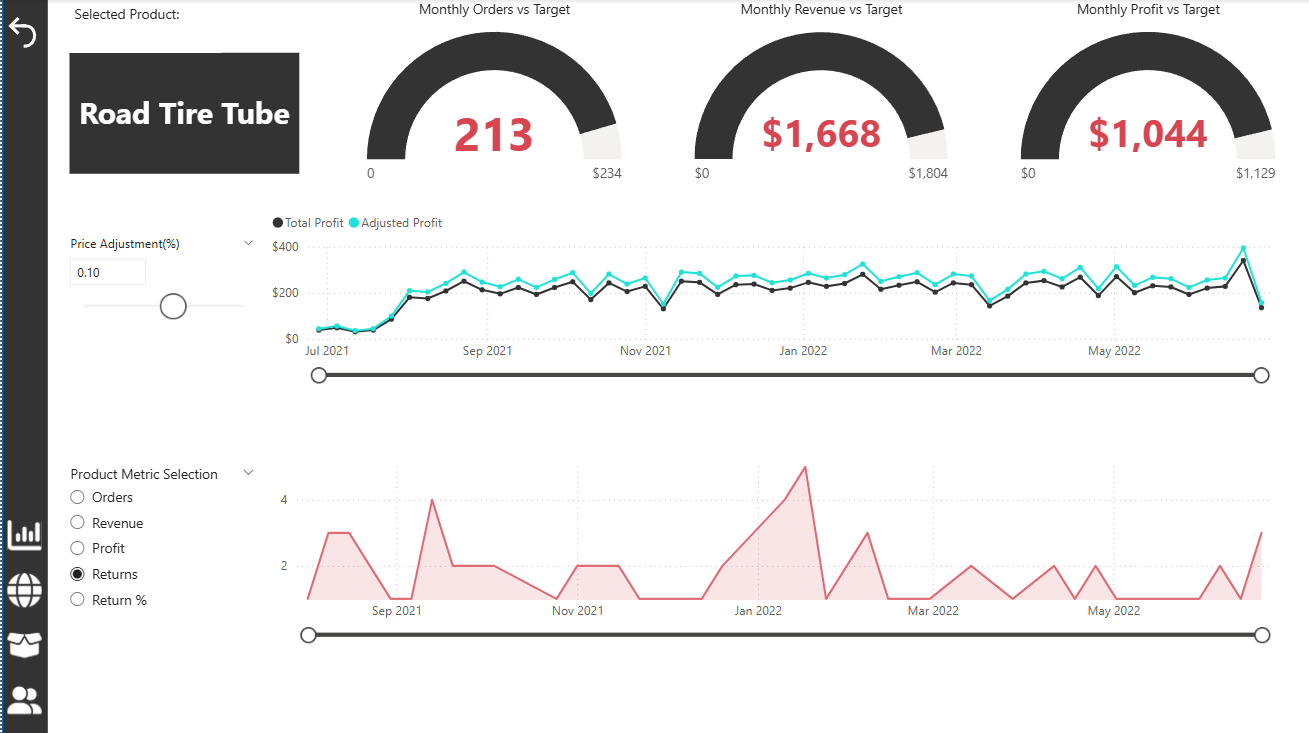

Layout of this report page (visuals, bound fields, positions):
{"tool":"powerbi","page":{"name":"Product Detail","canvas":[1280,720],"ordinal":2},"visuals":[{"type":"shape","box":[0,0,45,720],"z":0},{"type":"gauge","title":"Monthly Orders vs Target","fields":{"MaxValue":["Measure Table.Order Target"],"Y":["Measure Table.Total Orders"]},"box":[352.2,0,259.2,199.3],"z":1000},{"type":"actionButton","box":[1.2,665.2,45.2,41.6],"z":1000,"group":"g1"},{"type":"gauge","title":"Monthly Revenue vs Target","fields":{"MaxValue":["Measure Table.Revenue Target"],"Y":["Measure Table.Total Revenue"]},"box":[672.6,0,258,199.3],"z":2000},{"type":"actionButton","box":[1.2,503.8,45.2,41.6],"z":2000,"group":"g1"},{"type":"gauge","title":"Monthly Profit vs Target","fields":{"MaxValue":["Measure Table.Profit Target"],"Y":["Measure Table.Total Profit"]},"box":[991.7,0,259.2,199.3],"z":3000},{"type":"actionButton","box":[1.2,611.4,45.2,41.6],"z":3000,"group":"g1"},{"type":"lineChart","title":"Profit Trending","fields":{"Category":["Calendar Lookup.Date Hierarchy.Start of Year","Calendar Lookup.Date Hierarchy.Start of Month","Calendar Lookup.Date Hierarchy.Start of Week","Calendar Lookup.Date Hierarchy.Date"],"Y":["Measure Table.Total Profit","Measure Table.Adjusted Profit"]},"box":[258.8,199.1,1004.1,179.2],"z":4000},{"type":"actionButton","box":[1.2,557.6,45.2,41.6],"z":4000,"group":"g1"},{"type":"areaChart","title":"Return Trending","fields":{"Category":["Calendar Lookup.Date Hierarchy.Start of Year","Calendar Lookup.Date Hierarchy.Start of Month","Calendar Lookup.Date Hierarchy.Start of Week","Calendar Lookup.Date Hierarchy.Date"],"Y":["Measure Table.Total Returns"]},"box":[258.8,443.7,1004.1,189.2],"z":5000},{"type":"actionButton","box":[0,12.2,45.2,40.4],"z":6000},{"type":"group","id":"g1","title":"Navigation buttons","box":[1.2,503.8,45.2,203],"z":7000},{"type":"slicer","fields":{"Values":["Price Adjustment(%).Price Adjustment(%)"]},"box":[54,226.1,204.8,109.5],"z":8000},{"type":"card","fields":{"Values":["Min(Product Lookup.ProductName)"]},"box":[66,52.6,225,118.6],"z":9000},{"type":"textbox","box":[66,0,149.2,52.6],"z":9001},{"type":"slicer","fields":{"Values":["Product Metric Selection.Product Metric Selection"]},"box":[53.8,450,205.4,155.3],"z":9002}]}

Visuals, with their boxes on the page's 1280x720 design canvas (x1, y1, x2, y2). These are canvas units, not pixel positions in the 1309x733 screenshot, which may show the page scaled, cropped or inside an application window:
shape: l=0, t=0, r=45, b=720
"Monthly Orders vs Target" gauge: l=352, t=0, r=611, b=199
actionButton: l=1, t=665, r=46, b=707
"Monthly Revenue vs Target" gauge: l=673, t=0, r=931, b=199
actionButton: l=1, t=504, r=46, b=545
"Monthly Profit vs Target" gauge: l=992, t=0, r=1251, b=199
actionButton: l=1, t=611, r=46, b=653
"Profit Trending" lineChart: l=259, t=199, r=1263, b=378
actionButton: l=1, t=558, r=46, b=599
"Return Trending" areaChart: l=259, t=444, r=1263, b=633
actionButton: l=0, t=12, r=45, b=53
"Navigation buttons" group: l=1, t=504, r=46, b=707
slicer - Price Adjustment(%).Price Adjustment(%): l=54, t=226, r=259, b=336
card - Min(Product Lookup.ProductName): l=66, t=53, r=291, b=171
textbox: l=66, t=0, r=215, b=53
slicer - Product Metric Selection.Product Metric Selection: l=54, t=450, r=259, b=605
